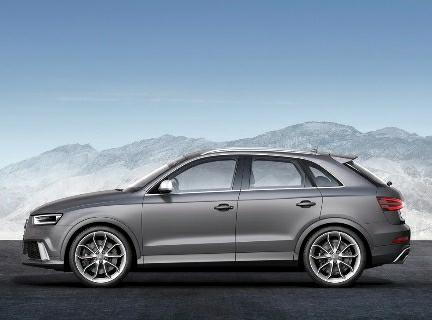car: (4, 143, 419, 299)
